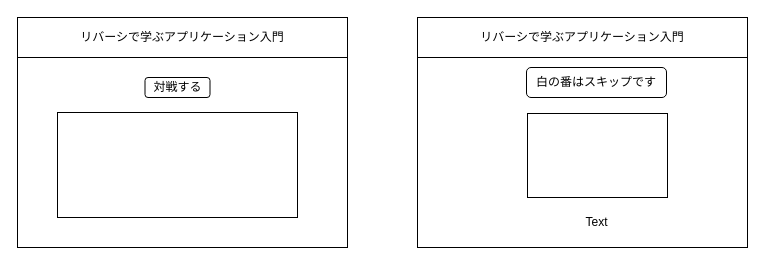
The diagram is 765 pixels wide and 265 high, and some of its shapes have lost their labels. Each missing label, with the centre of its shape:
"盤面" belongs at point (597, 155).
"過去の対戦結果" belongs at point (177, 165).
